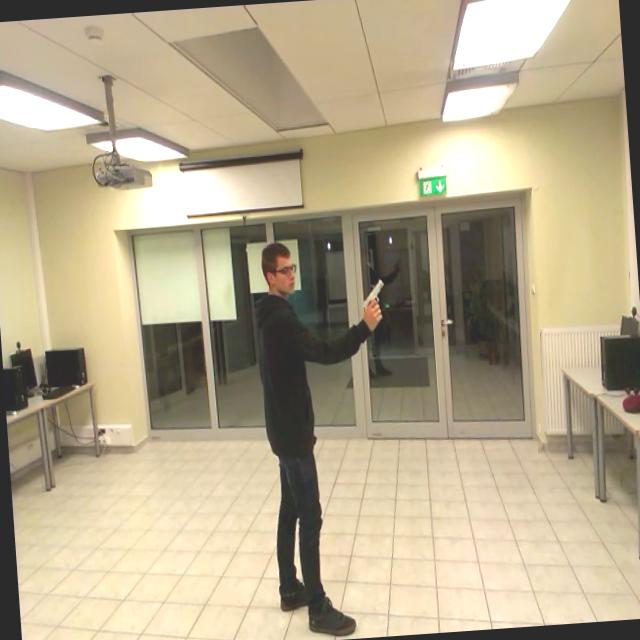handgun: (353, 270, 396, 342)
